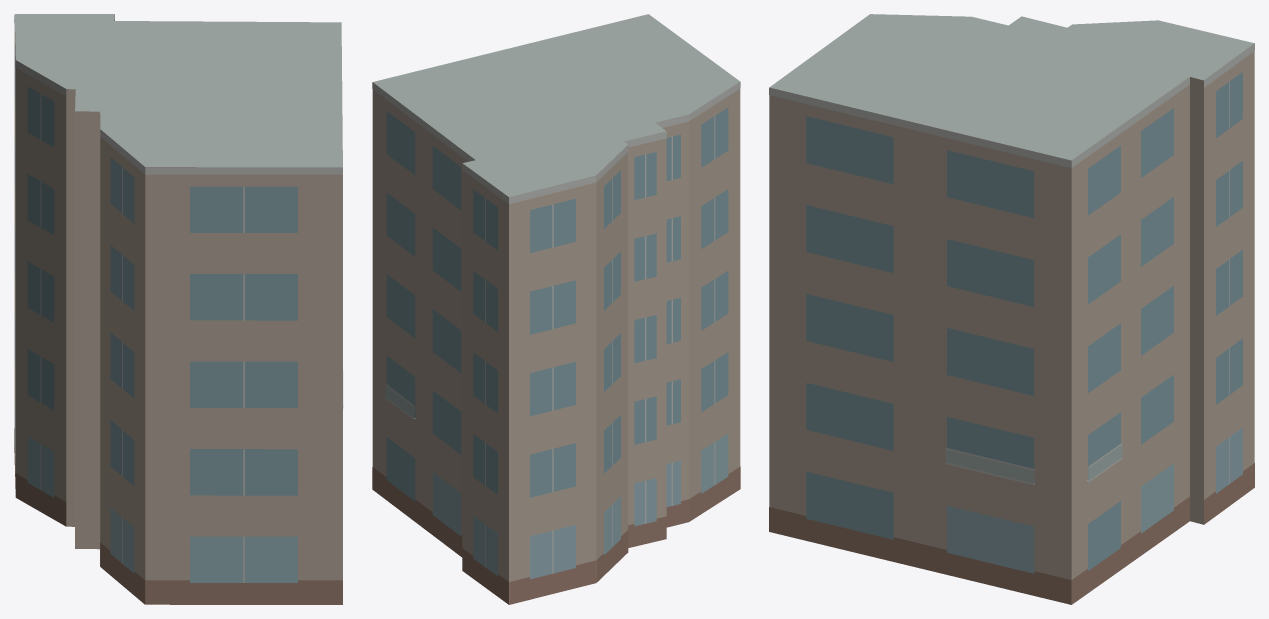
The model's file is survey-upis-32586840.glb.
3 views of the same model, side by side, from view 1: azimuth 30°, elevation 25°; view 2: azimuth 150°, elevation 25°; view 3: azimuth 270°, elevation 25° (orthographic). The views are drawn at different scales.
Parts seen in each view (by area): view 1: survey-upis-32586840.tmp; view 2: survey-upis-32586840.tmp; view 3: survey-upis-32586840.tmp.
Part boxes in pixels (x1,y1,x2,y2): survey-upis-32586840.tmp: (14, 14, 343, 604); survey-upis-32586840.tmp: (372, 14, 740, 604); survey-upis-32586840.tmp: (769, 14, 1254, 604).
Size of the model in its own units: 10.12 by 14.3 by 14.17.
